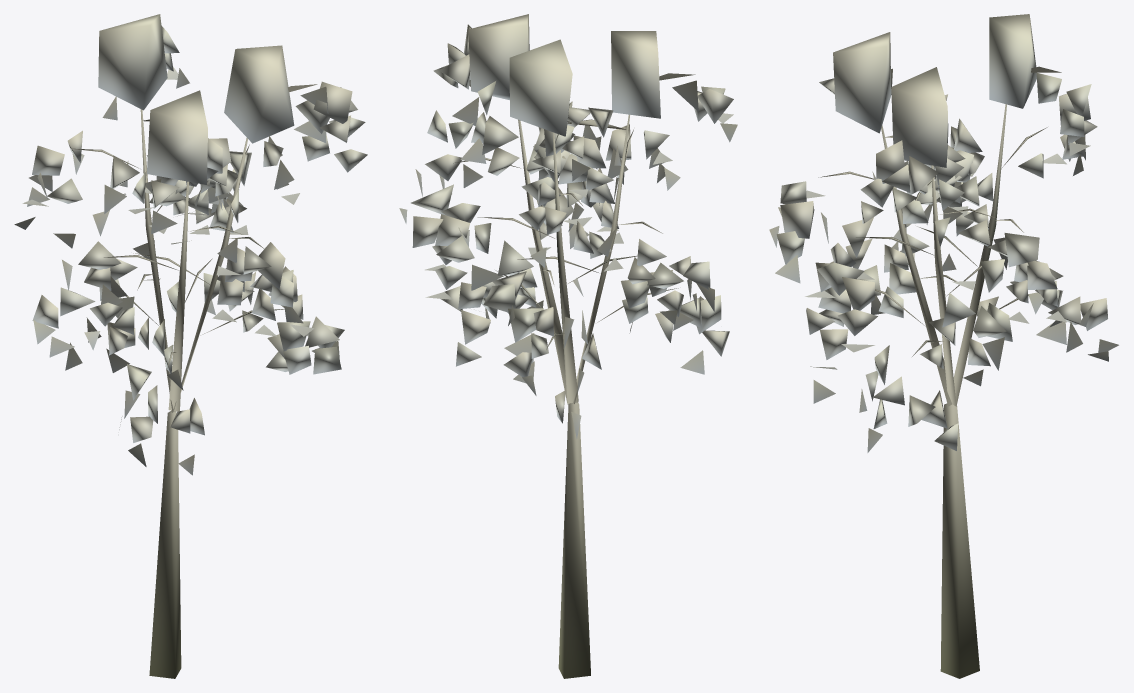
The picture shows the model from 3 angles, left to right: view 1: azimuth 30°, elevation 25°; view 2: azimuth 150°, elevation 25°; view 3: azimuth 270°, elevation 25°; orthographic projection. The views are drawn at different scales.
Visible parts, largest first — view 1: crown, trunk; view 2: crown, trunk; view 3: crown, trunk.
Boxes of the visible parts, box(x1,y1,x2,y2) form: crown: box(14, 14, 367, 475); trunk: box(71, 84, 317, 678); crown: box(399, 14, 737, 438); trunk: box(453, 73, 695, 678); crown: box(769, 14, 1118, 452); trunk: box(818, 66, 1061, 678).
Bounding box in the file's own units: 7.64 × 15.1 × 7.34.
